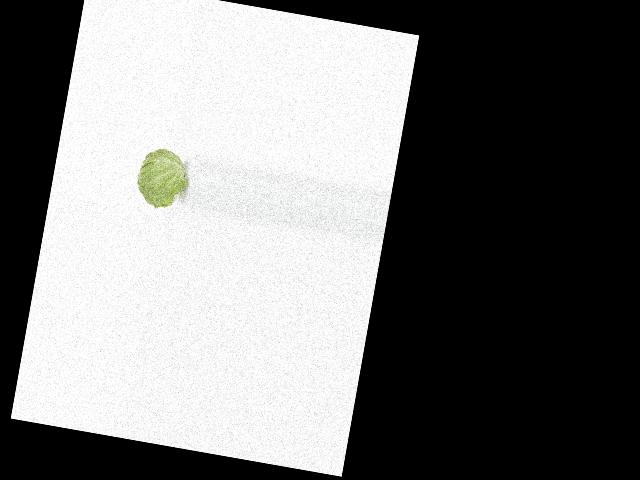lettuce: (131, 141, 187, 213)
